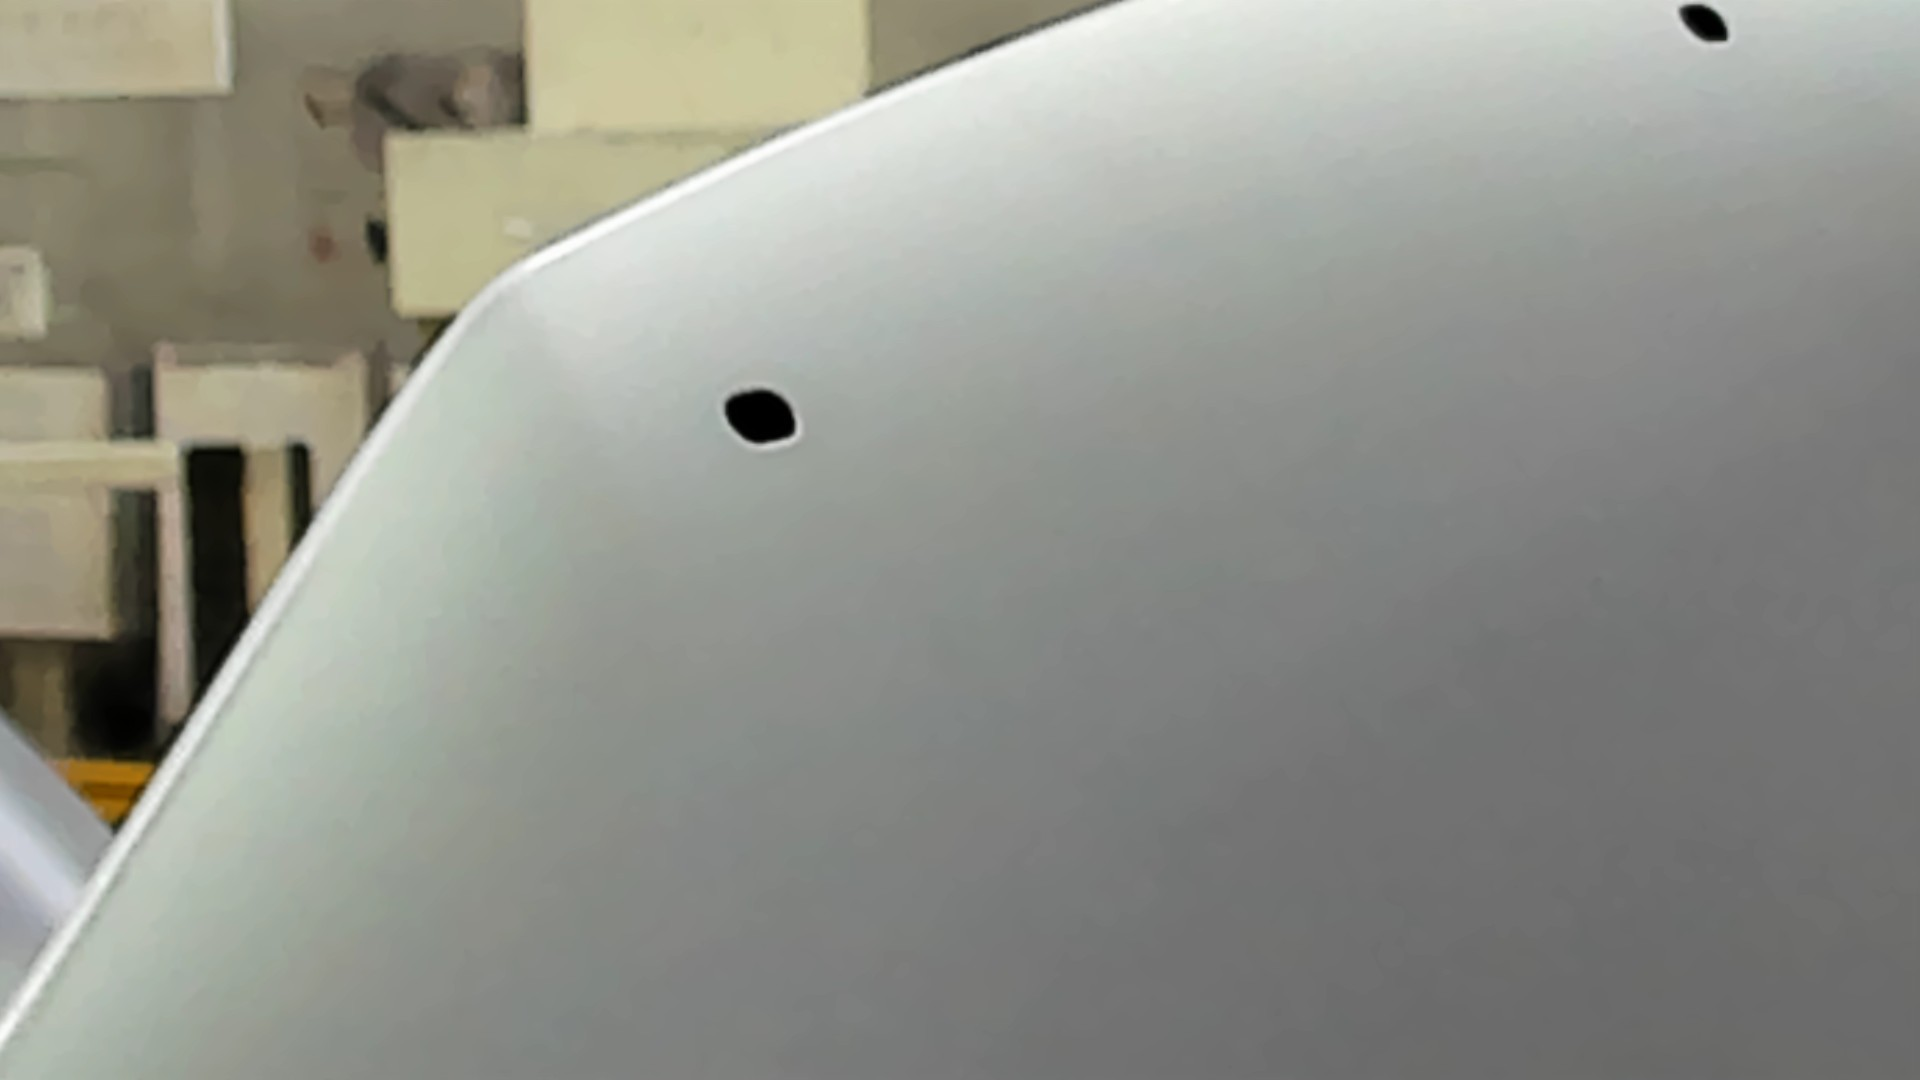amorfo: (717, 382, 807, 454), (1669, 1, 1735, 49)
